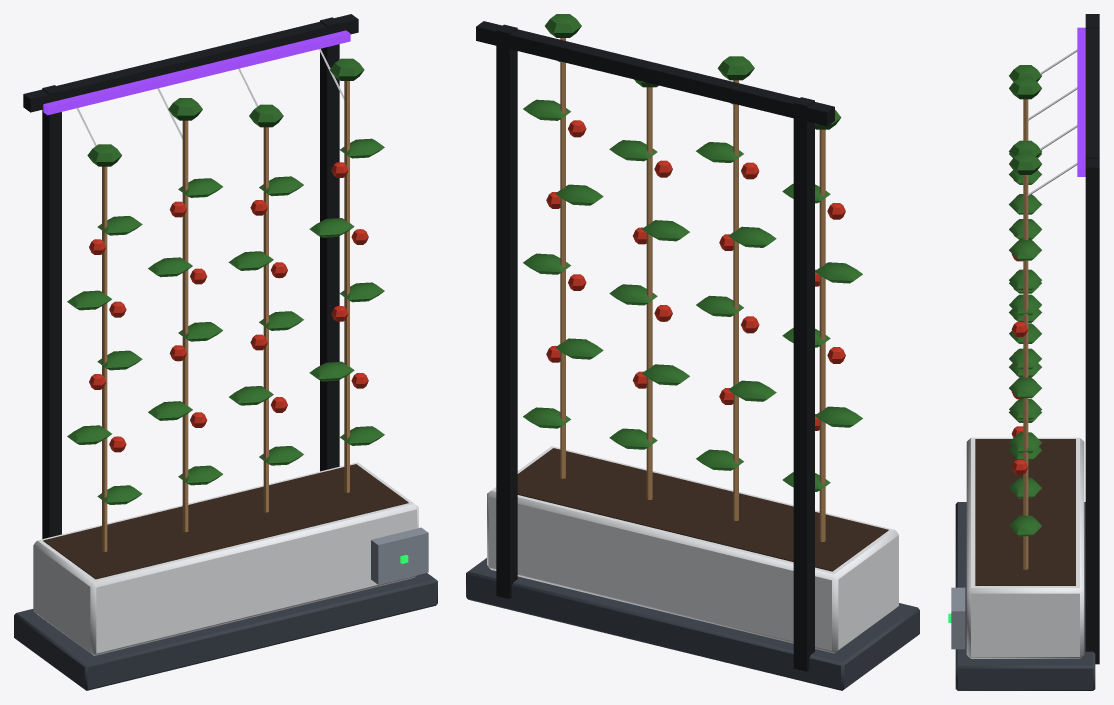
Rendered from planter_tomato_vine_rack.glb.
3 renders of one model, left to right at view 1: azimuth 30°, elevation 25°; view 2: azimuth 150°, elevation 25°; view 3: azimuth 270°, elevation 25°, orthographic. The views are drawn at different scales.
Parts seen in each view (by area): view 1: planter_tomato_vine_rack; view 2: planter_tomato_vine_rack; view 3: planter_tomato_vine_rack.
Part boxes in pixels (left/top/right/bottom): planter_tomato_vine_rack: left=14, top=14, right=437, bottom=690; planter_tomato_vine_rack: left=466, top=14, right=919, bottom=690; planter_tomato_vine_rack: left=948, top=14, right=1099, bottom=690.
Bounding box in the file's own units: 1.4 × 2.05 × 0.541.
